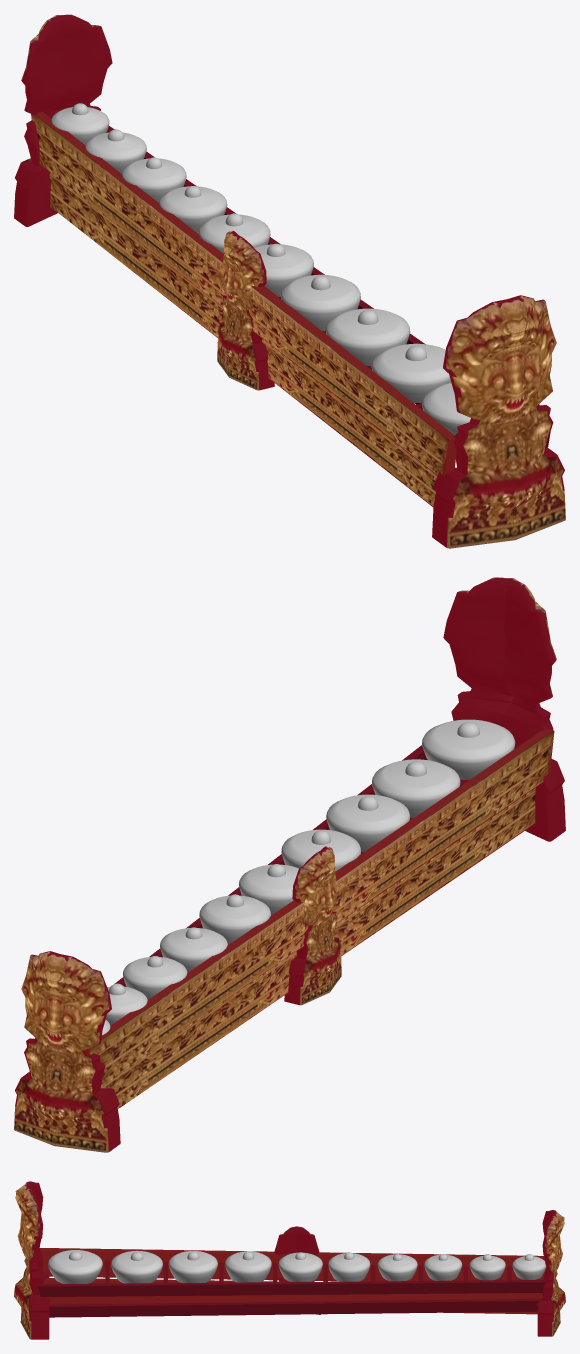
File: REONNG.fbx
3 renders of one model, top to bottom at view 1: azimuth 30°, elevation 25°; view 2: azimuth 150°, elevation 25°; view 3: azimuth 270°, elevation 25°, orthographic. The views are drawn at different scales.
Parts seen in each view (by area): view 1: Cube_3, Null_3, Cube_11_2, Cube_11, Cube_2, Cube; view 2: Cube_11_2, Null_3, Cube_2, Cube_3, Cube_11, Cube, Cube_12; view 3: Null_3, Cube_12, Cube_12_2, Cube_11, Cube_11_2, Cube_3, Cube_2, Cube.
Boxes of the visible parts, bbox=[...] form: Cube_3: bbox=[432, 295, 565, 548]; Null_3: bbox=[51, 103, 470, 435]; Cube_11_2: bbox=[31, 111, 456, 476]; Cube_11: bbox=[49, 172, 437, 506]; Cube_2: bbox=[14, 14, 112, 226]; Cube: bbox=[217, 231, 274, 390]; Cube_11_2: bbox=[84, 729, 554, 1084]; Null_3: bbox=[102, 719, 515, 1035]; Cube_2: bbox=[14, 951, 120, 1152]; Cube_3: bbox=[443, 577, 565, 841]; Cube_11: bbox=[100, 788, 535, 1108]; Cube: bbox=[284, 846, 341, 1005]; Cube_12: bbox=[114, 745, 427, 986]; Null_3: bbox=[48, 1250, 546, 1283]; Cube_12: bbox=[37, 1280, 546, 1296]; Cube_12_2: bbox=[49, 1298, 541, 1317]; Cube_11: bbox=[43, 1277, 542, 1314]; Cube_11_2: bbox=[39, 1248, 546, 1281]; Cube_3: bbox=[14, 1181, 49, 1339]; Cube_2: bbox=[537, 1210, 565, 1336]; Cube: bbox=[273, 1226, 320, 1314].
Bounding box in the file's own units: 54.23 × 102 × 372.
